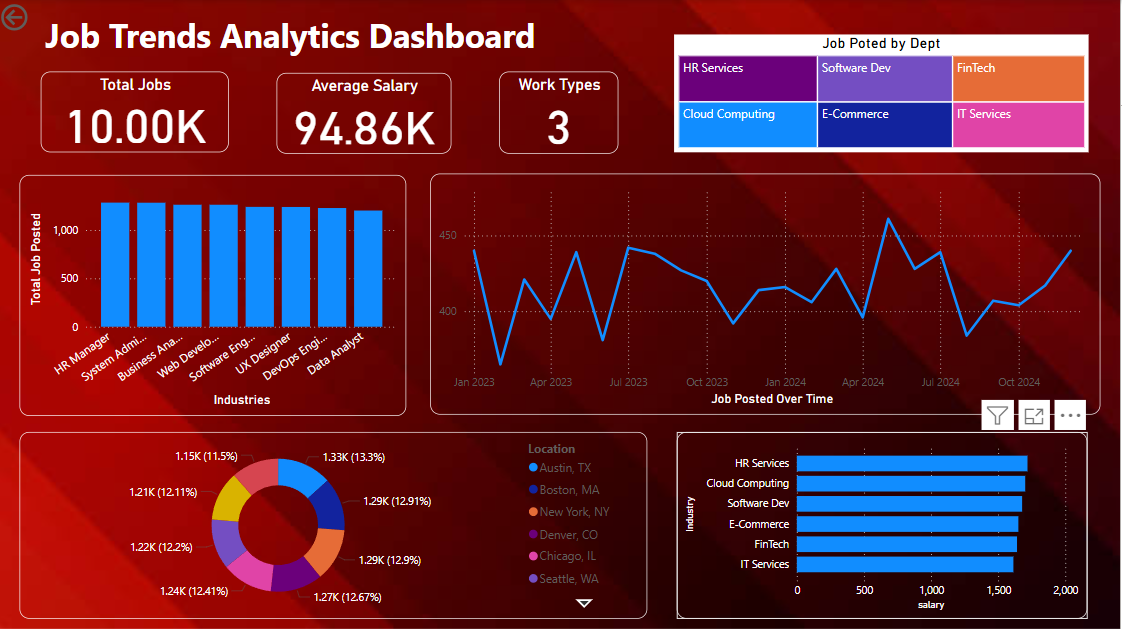

This screenshot's page, from the dashboard's own definition file:
{"tool":"powerbi","page":{"name":"Page 1","canvas":[1280,720],"ordinal":0},"visuals":[{"type":"card","title":"Total Jobs","fields":{"Values":["CountNonNull(job_trends_10000.Job ID)"]},"box":[49.8,81.6,214.4,92.1],"z":0},{"type":"card","title":"Average Salary","fields":{"Values":["Avg(job_trends_10000.Salary (USD))"]},"box":[318.6,83.1,199.3,92.1],"z":1000},{"type":"actionButton","box":[0,0,100,40],"z":2000},{"type":"card","title":" Work Types","fields":{"Values":["Count(job_trends_10000.Work Type)"]},"box":[572.4,81.6,135.9,93.6],"z":3000},{"type":"lineClusteredColumnComboChart","fields":{"Category":["job_trends_10000.Title"],"Y":["CountNonNull(job_trends_10000.Industry)"]},"box":[25.7,199.3,441,274.8],"z":4000},{"type":"lineChart","fields":{"Y":["CountNonNull(job_trends_10000.Job ID)"],"Category":["job_trends_10000.Post Date.Variation.Date Hierarchy.Year","job_trends_10000.Post Date.Variation.Date Hierarchy.Quarter","job_trends_10000.Post Date.Variation.Date Hierarchy.Month"]},"box":[493.8,197.8,764.1,274.8],"z":5000},{"type":"treemap","title":"Job Poted by Dept","fields":{"Group":["job_trends_10000.Industry"],"Values":["CountNonNull(job_trends_10000.Title)"]},"box":[771.7,39.3,472.7,134.4],"z":6000},{"type":"barChart","fields":{"Category":["job_trends_10000.Industry"],"Y":["CountNonNull(job_trends_10000.Salary (USD))"]},"box":[774.7,492.3,468.1,212.9],"z":7000},{"type":"donutChart","fields":{"Category":["job_trends_10000.Location"],"Y":["CountNonNull(job_trends_10000.Title)"]},"box":[25.7,492.3,715.8,212.9],"z":8000},{"type":"textbox","box":[49.8,9.1,590.5,63.4],"z":9000}]}

Visuals, with their boxes in screenshot pixels (x1, y1, x2, y2), scaled from the page's 1280x720 canvas onto the 1122x629 screenshot:
"Total Jobs" card: detection(44, 71, 232, 152)
"Average Salary" card: detection(279, 73, 454, 153)
actionButton: detection(0, 0, 88, 35)
" Work Types" card: detection(502, 71, 621, 153)
lineClusteredColumnComboChart - job_trends_10000.Title x CountNonNull(job_trends_10000.Industry): detection(23, 174, 409, 414)
lineChart - CountNonNull(job_trends_10000.Job ID) x job_trends_10000.Post Date.Variation.Date Hierarchy.Year: detection(433, 173, 1103, 413)
"Job Poted by Dept" treemap: detection(676, 34, 1091, 152)
barChart - job_trends_10000.Industry x CountNonNull(job_trends_10000.Salary (USD)): detection(679, 430, 1089, 616)
donutChart - job_trends_10000.Location x CountNonNull(job_trends_10000.Title): detection(23, 430, 650, 616)
textbox: detection(44, 8, 561, 63)
